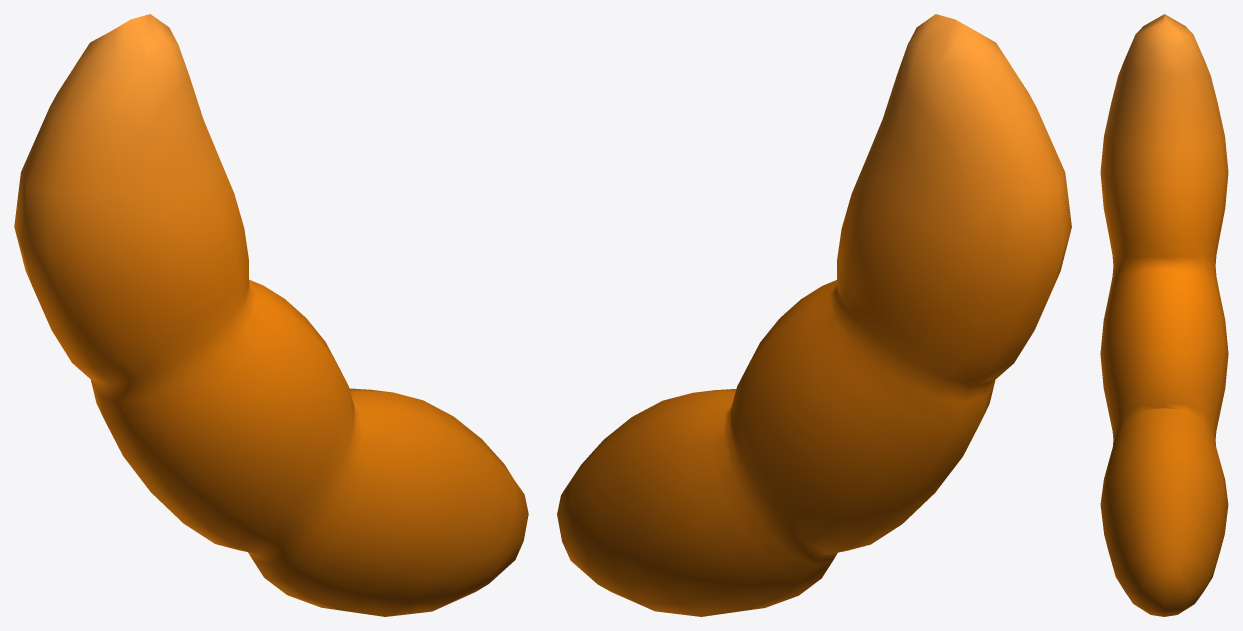
Rendered from Farm_Crop_Soybean_01.fbx.
3 views of the same model, side by side, from view 1: azimuth 30°, elevation 25°; view 2: azimuth 150°, elevation 25°; view 3: azimuth 270°, elevation 25° (orthographic). The views are drawn at different scales.
Parts seen in each view (by area): view 1: Farm_Crop_Soybean_01; view 2: Farm_Crop_Soybean_01; view 3: Farm_Crop_Soybean_01.
Part boxes in pixels (<box>): Farm_Crop_Soybean_01: <box>14,14,528,616</box>; Farm_Crop_Soybean_01: <box>557,14,1071,616</box>; Farm_Crop_Soybean_01: <box>1100,14,1228,616</box>.
Size of the model in its own units: 22.08 by 27.64 by 6.6.
